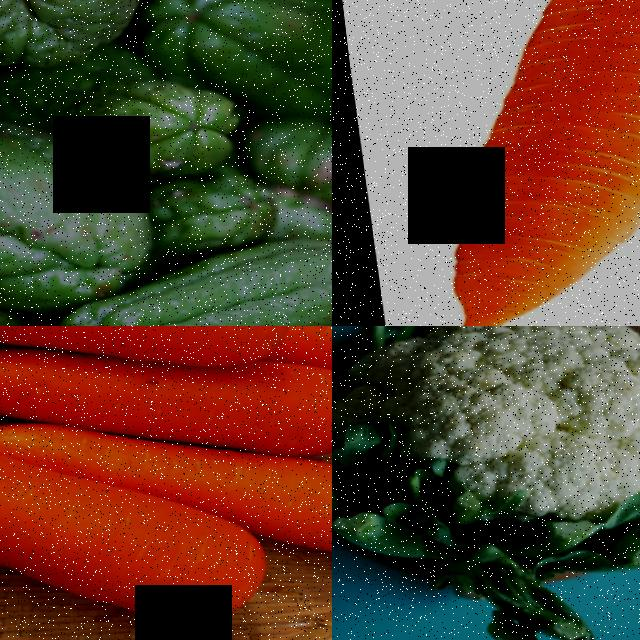carrot: (366, 0, 640, 321), (0, 338, 332, 462), (0, 485, 209, 640), (0, 326, 271, 375), (212, 464, 332, 562)
cauliflower: (332, 326, 640, 640)
chayote: (0, 93, 157, 305), (60, 261, 332, 326)
